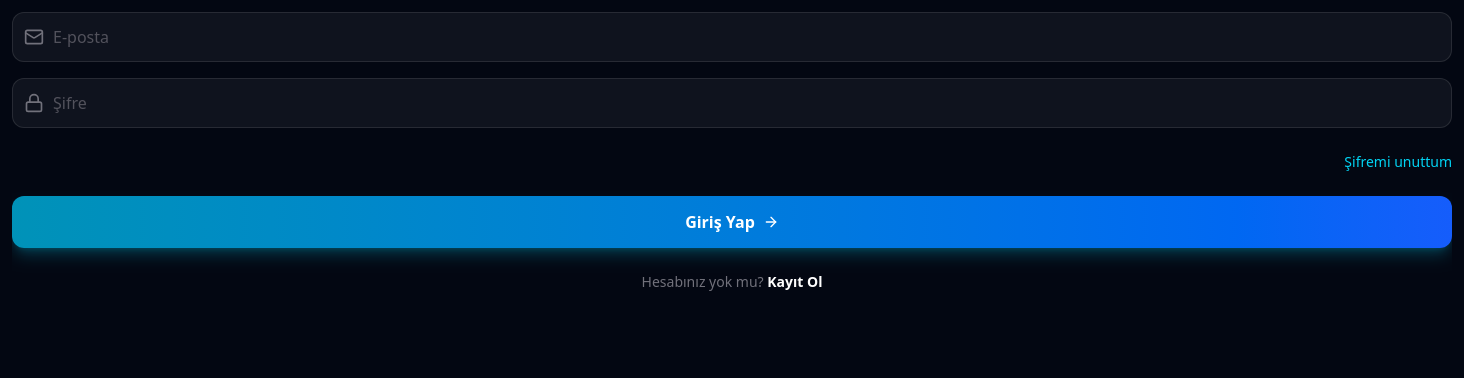
Scenario: LoginForm › başarısız girişte hata mesajı göstermeli
Type "test@test.com" into the field with placeholder "E-posta".
click(732, 37); type("test@test.com")  # box [12,12,1452,62]
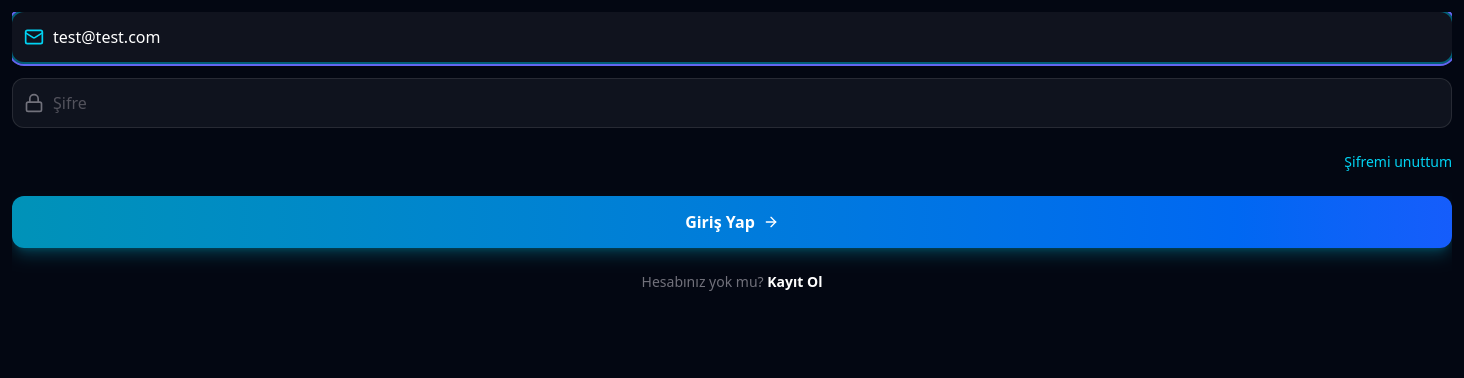
Type "wrong" into the password field with placeholder "Şifre".
click(732, 103); type("wrong")  # box [12,78,1452,128]
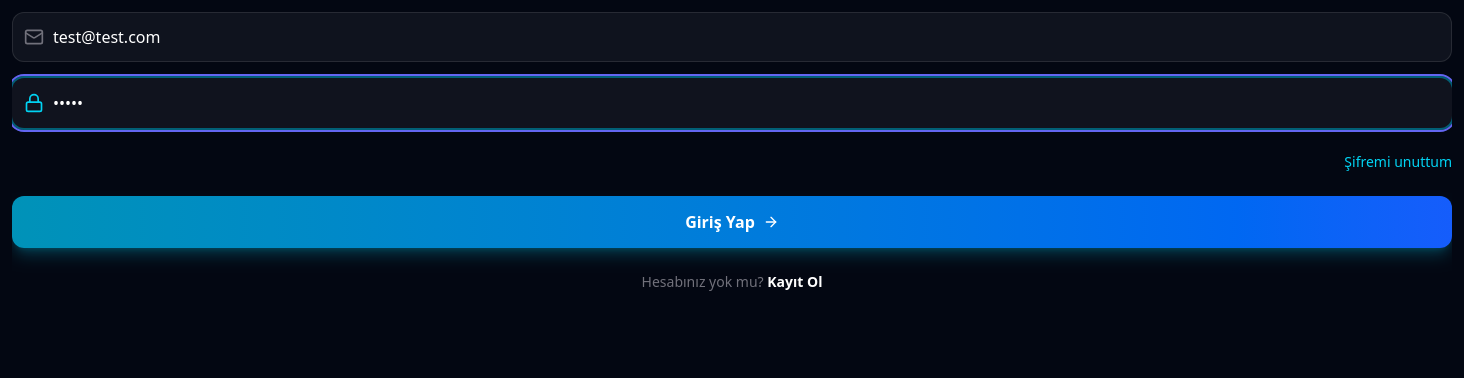
Click the button "Giriş Yap".
click(732, 222)  # box [12,196,1452,248]
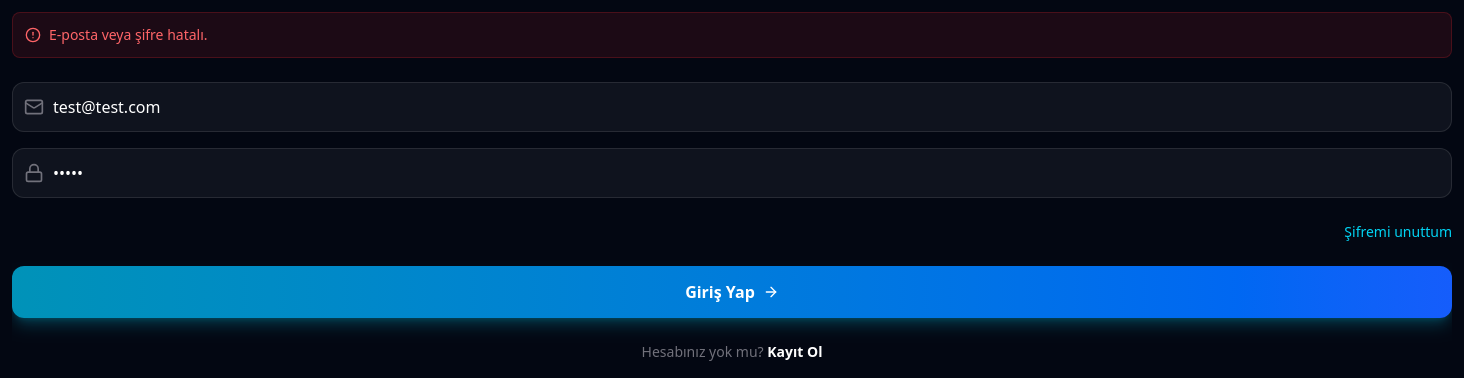
Now the text "E-posta veya şifre hatalı." is shown, box [12,12,1452,58]
